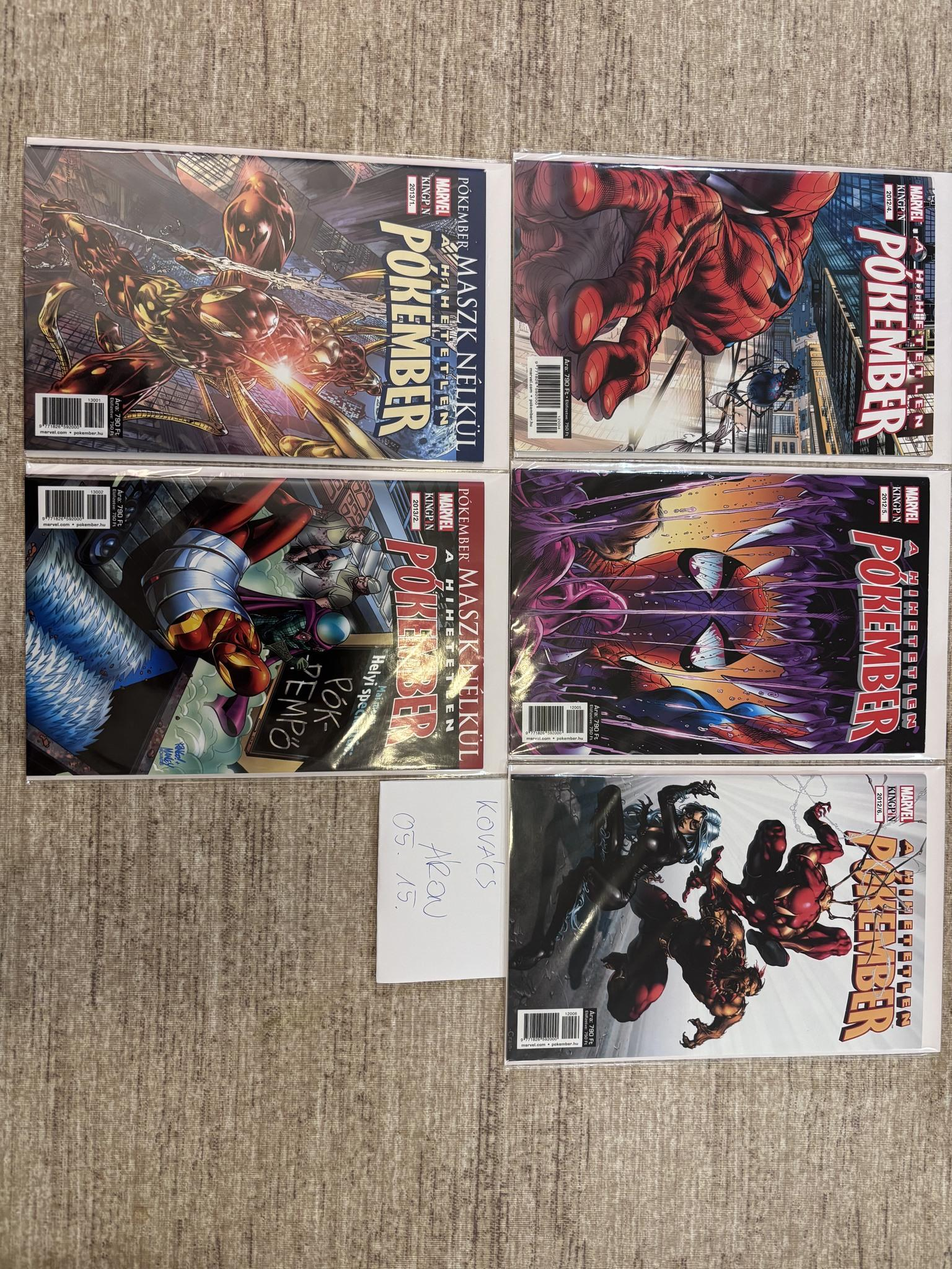comic: (17, 140, 515, 466), (23, 464, 506, 779), (510, 154, 952, 460), (510, 465, 949, 761), (506, 764, 943, 1061)
